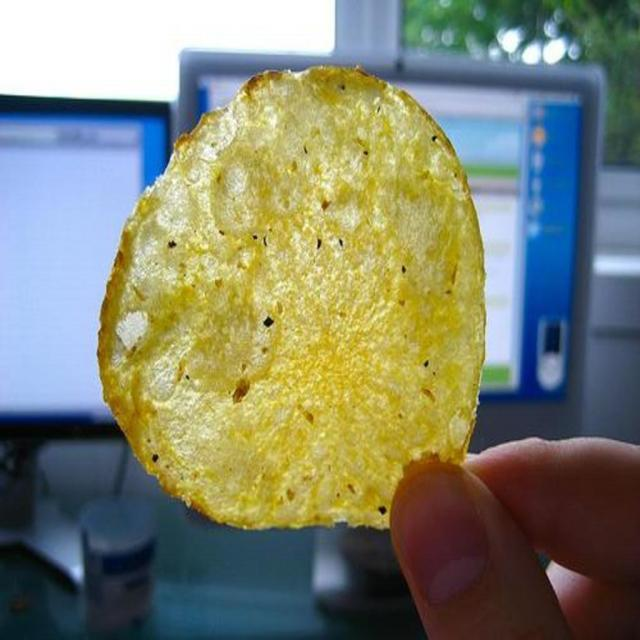Chips packaged: (94, 58, 482, 534)
